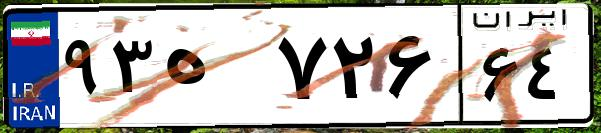2: (330, 28, 385, 110)
3: (110, 28, 158, 98)
4: (525, 38, 570, 115)
6: (385, 28, 445, 110), (475, 38, 525, 113)
7: (270, 28, 330, 110)
9: (57, 26, 110, 100)
ه: (158, 20, 270, 120)
